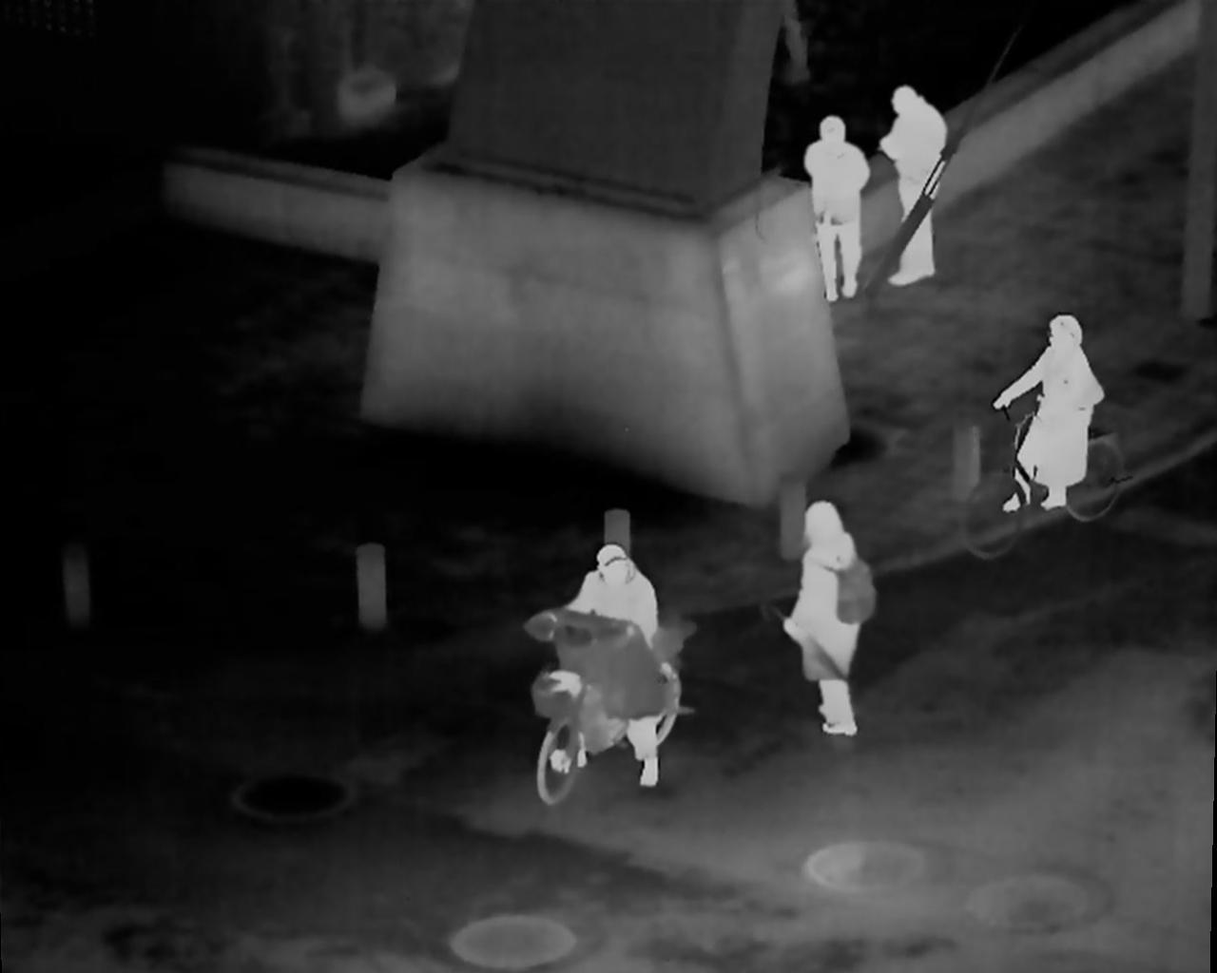person: (781, 508, 867, 742), (570, 542, 657, 773), (998, 315, 1095, 518), (800, 114, 866, 293), (892, 78, 939, 290)
